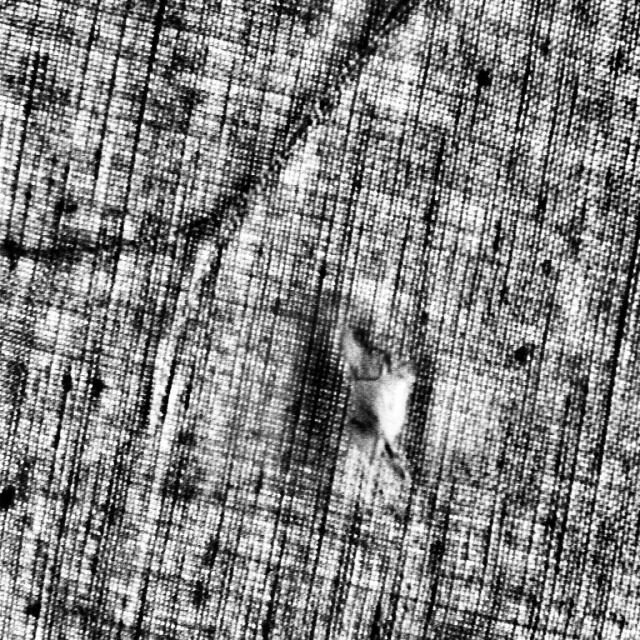Stitch: (0, 0, 419, 382), (342, 331, 418, 465)
